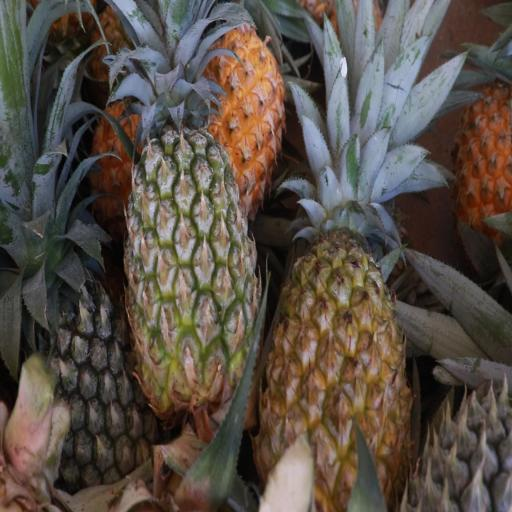------------------------------: (128, 128, 258, 398)
Pineapple - v8 v1: (258, 179, 408, 512), (139, 16, 285, 155), (449, 83, 512, 225)
